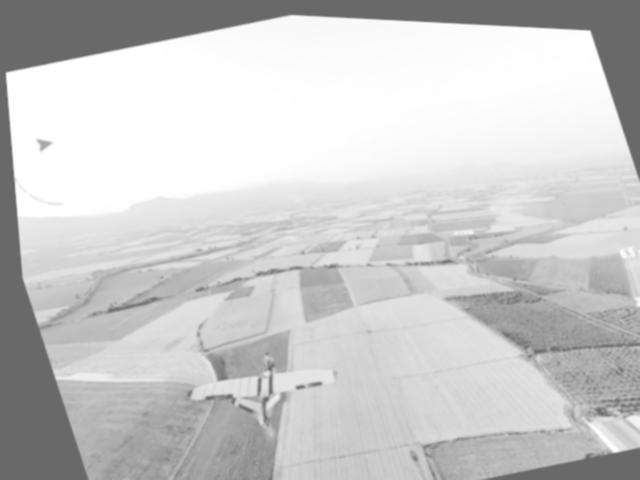hedef: (167, 326, 354, 453)
